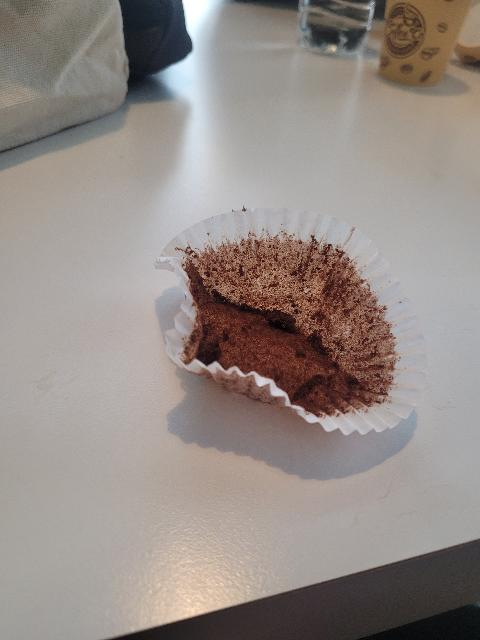Kagit: (152, 208, 419, 436)
